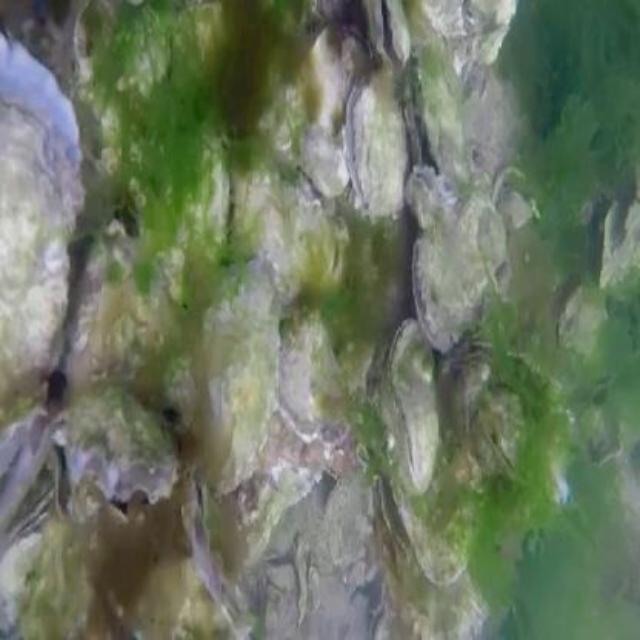Oyster-Closed: (198, 257, 280, 492), (380, 515, 496, 638), (411, 194, 498, 349), (180, 470, 249, 628), (389, 318, 440, 496), (277, 311, 345, 441), (561, 278, 607, 354), (300, 129, 350, 196), (10, 482, 53, 541), (497, 196, 530, 227), (326, 240, 344, 287)
Oyster-Open: (0, 37, 83, 394), (374, 373, 483, 582), (52, 386, 175, 499), (345, 77, 409, 217), (407, 60, 464, 186), (0, 405, 52, 531), (601, 162, 638, 302), (361, 0, 409, 74), (407, 167, 455, 228)
